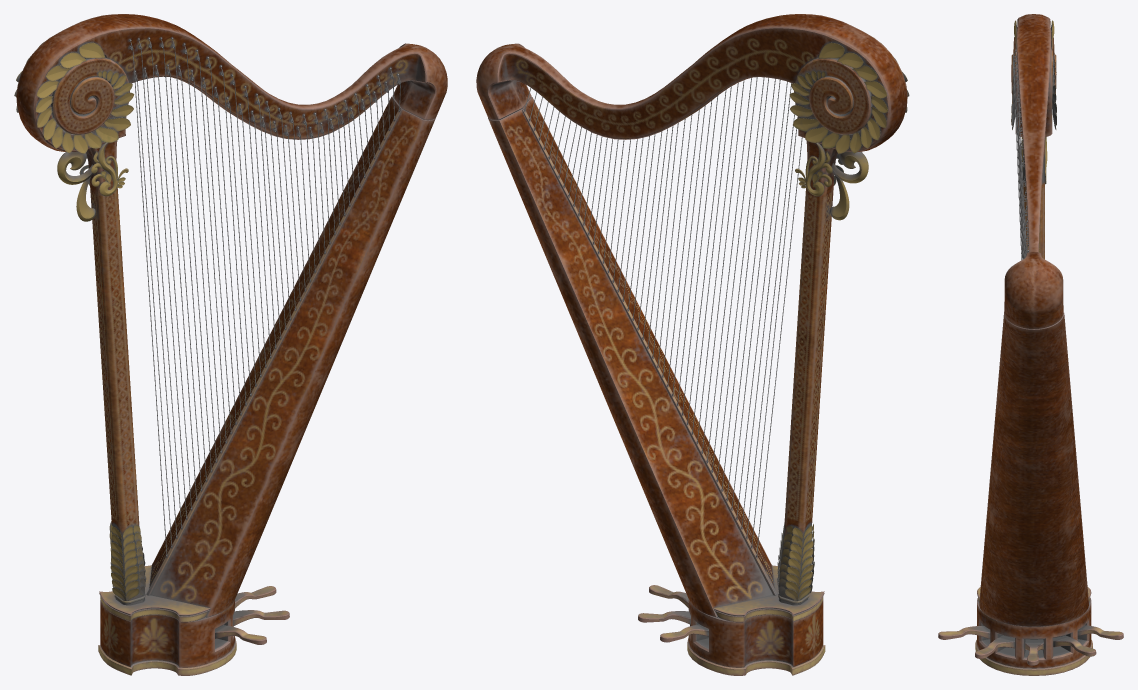
The model's file is SM_PropHarp.fbx.
3 renders of one model, left to right at view 1: azimuth 30°, elevation 25°; view 2: azimuth 150°, elevation 25°; view 3: azimuth 270°, elevation 25°, orthographic. The views are drawn at different scales.
Parts seen in each view (by area): view 1: KB3D_ATL_PropHarp_A_Main; view 2: KB3D_ATL_PropHarp_A_Main; view 3: KB3D_ATL_PropHarp_A_Main.
Part boxes in pixels (<box>): KB3D_ATL_PropHarp_A_Main: <box>14,14,447,675</box>; KB3D_ATL_PropHarp_A_Main: <box>476,14,909,675</box>; KB3D_ATL_PropHarp_A_Main: <box>938,14,1123,675</box>.
Size of the model in its own units: 130 by 190 by 53.91.
Materials: 1 (1 with a texture image).
